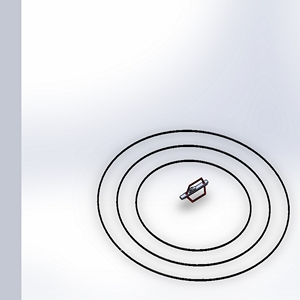circle: (90, 129, 297, 287)
submarine: (173, 173, 219, 217)
